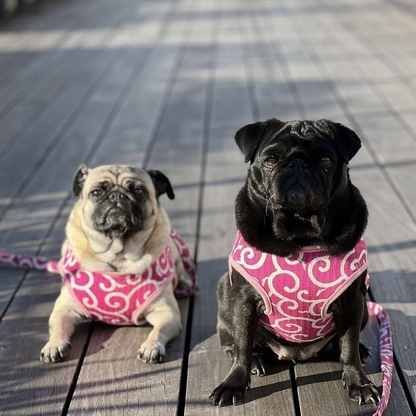Pug: (203, 113, 390, 410), (36, 159, 203, 370)
